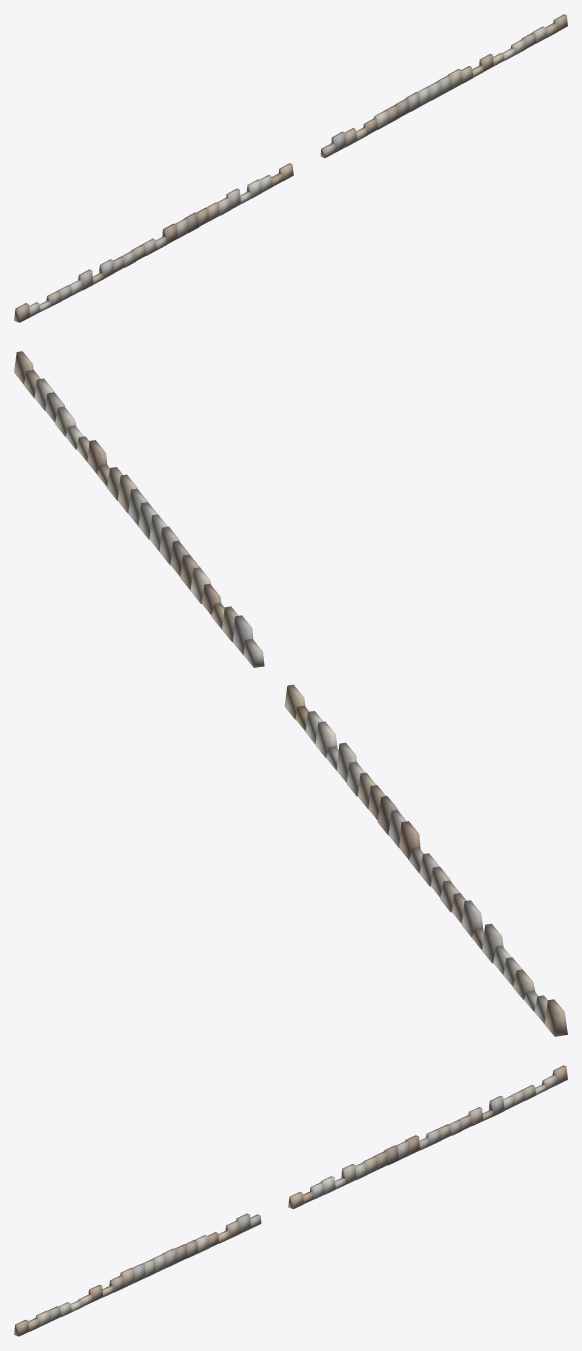
The model's file is farm_25_16_collision.glb.
3 views of the same model, one above another, from view 1: azimuth 90°, elevation 25°; view 2: azimuth 150°, elevation 25°; view 3: azimuth 270°, elevation 25° (orthographic). The views are drawn at different scales.
Visible parts, largest first — view 1: geometry_0; view 2: geometry_0; view 3: geometry_0.
Boxes of the visible parts, <box> form: geometry_0: <box>14,14,567,322</box>; geometry_0: <box>14,351,567,1036</box>; geometry_0: <box>14,1065,567,1336</box>.
Size of the model in its own units: 63.61 by 3.25 by 53.45.
